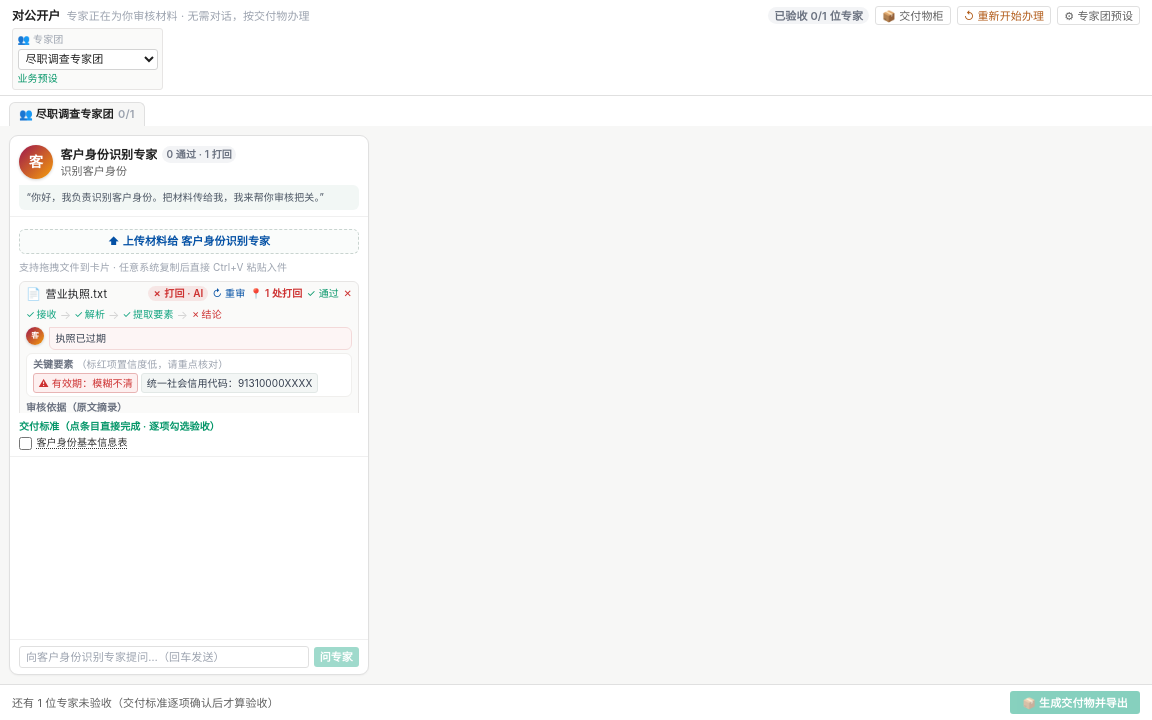
Test: 打回定位（BUGFIX #80） › 打回材料显示定位入口，点开弹窗高亮问题行与建议
Click the button "📍 1 处打回" at [276, 294], box [250, 286, 302, 301]
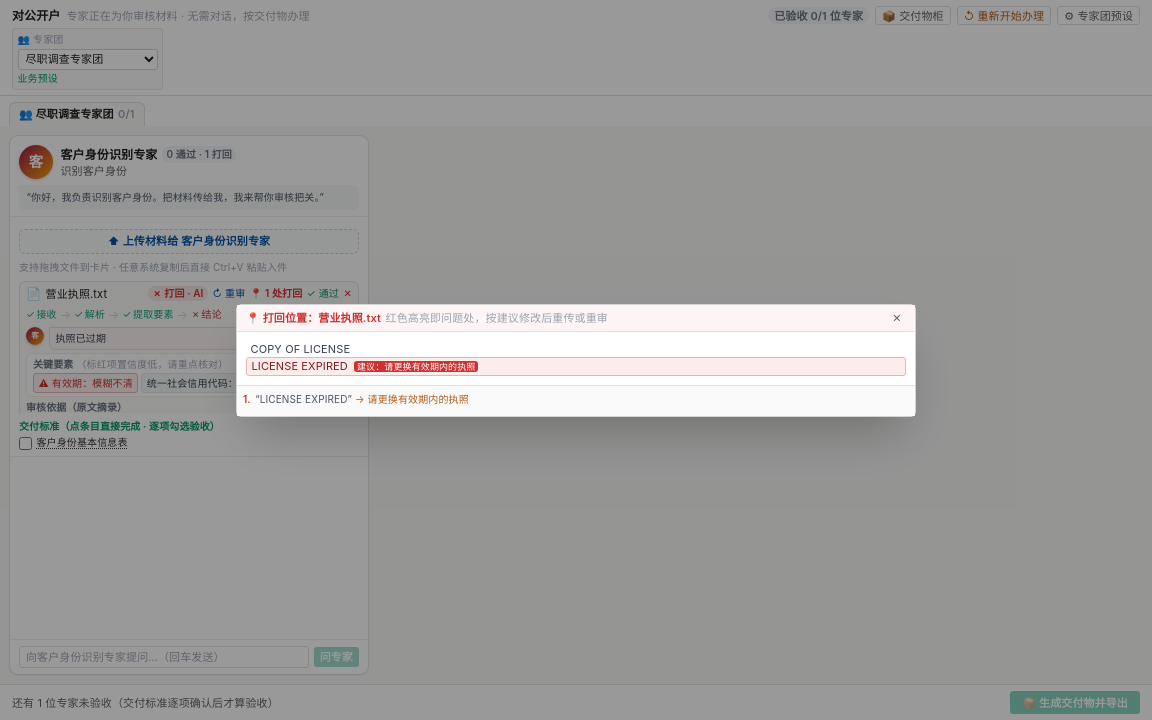
expect the text "打回位置" is shown: met, box [246, 310, 318, 324]
